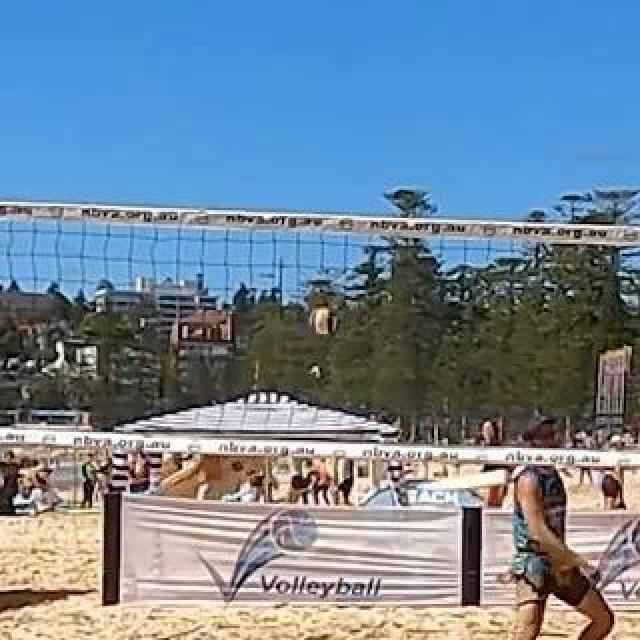volleyball: (310, 307, 338, 335)
